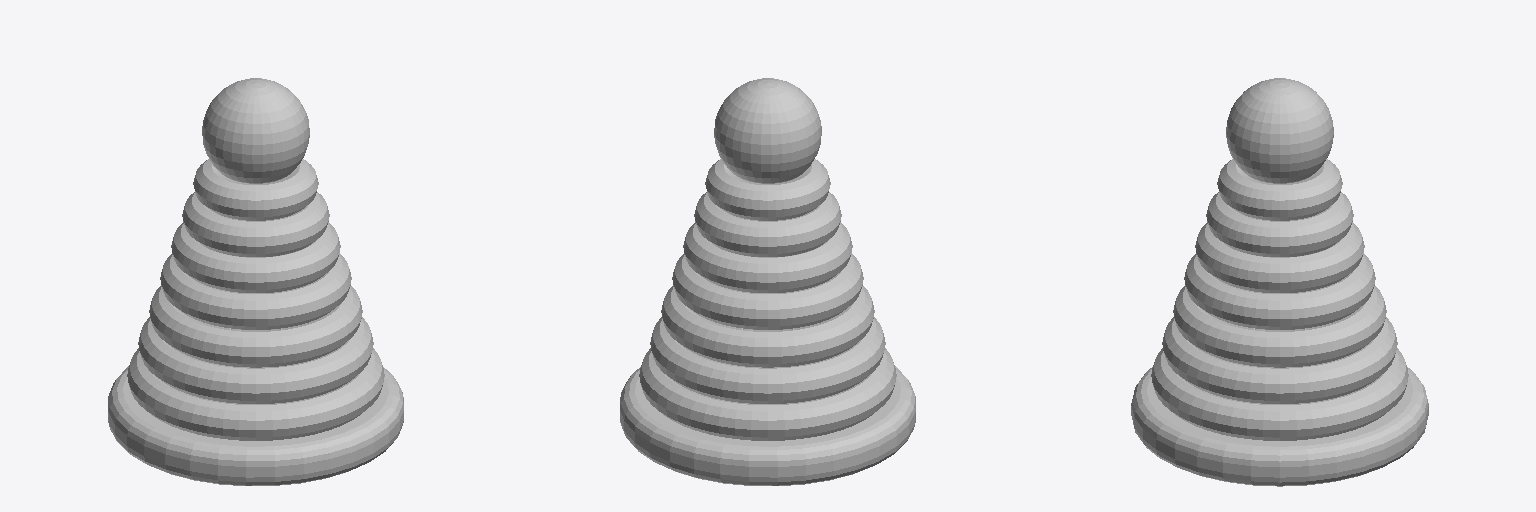
Rendered from toy1.obj.
3 views of the same model, side by side, from view 1: azimuth 30°, elevation 25°; view 2: azimuth 150°, elevation 25°; view 3: azimuth 270°, elevation 25° (orthographic).
Parts seen in each view (by area): view 1: Torus.014; view 2: Torus.014; view 3: Torus.014.
Part boxes in pixels (x1,y1,x2,y2): Torus.014: (108, 78, 403, 485); Torus.014: (620, 78, 915, 485); Torus.014: (1131, 78, 1428, 486).
Size of the model in its own units: 0.2703 by 0.3467 by 0.2703.